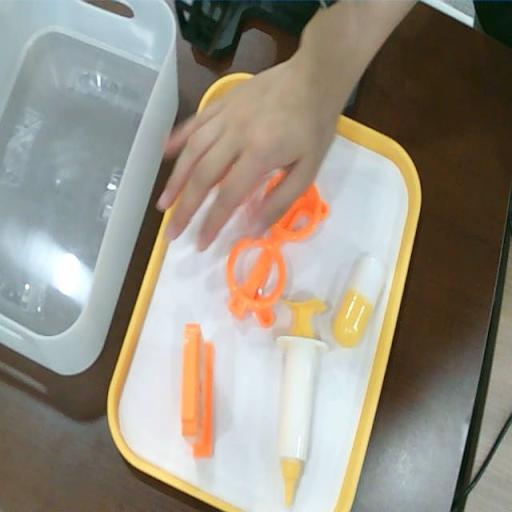hospital: (158, 55, 342, 247)
